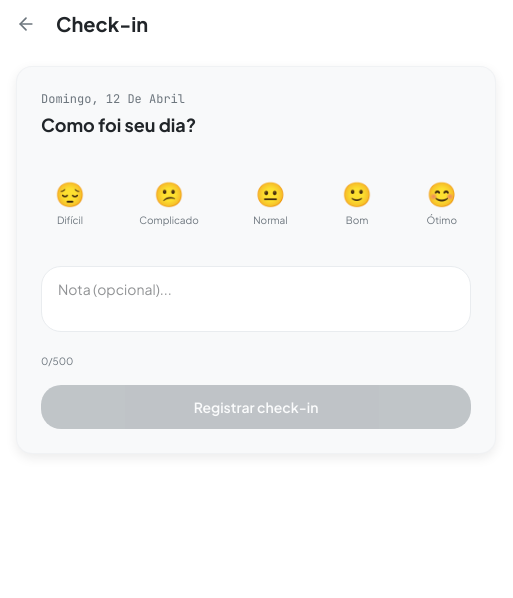
Checkin Page — Friend Streak Feedback › shows friend streak after check-in when streaks exist
Note: Select score 4 (Bom)
Click the button "🙂 Bom".
click(357, 202)  # box [328,163,386,242]
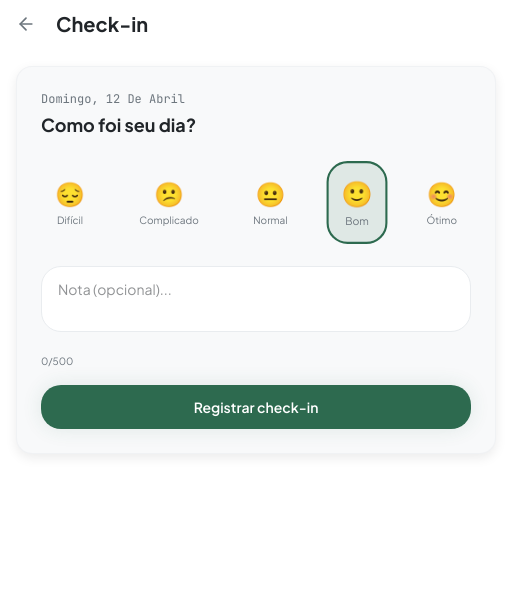
Click the button "Registrar check-in".
click(256, 407)  # box [41,385,471,429]
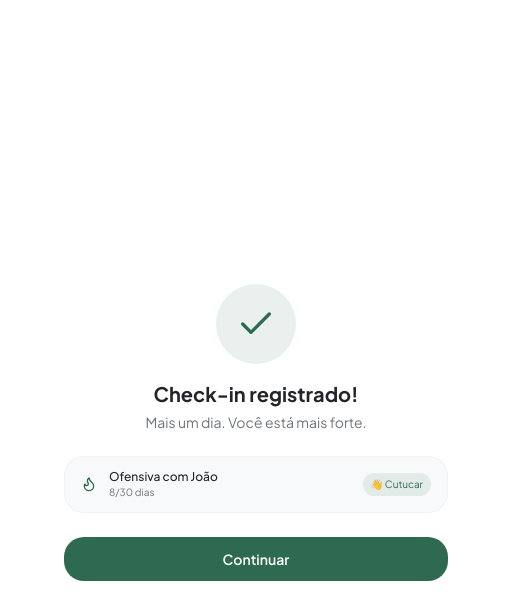
Check: the text "Ofensiva com João" is shown, box [109,468,218,484]
Check: the text "8/30 dias" is shown, box [109,486,154,498]
